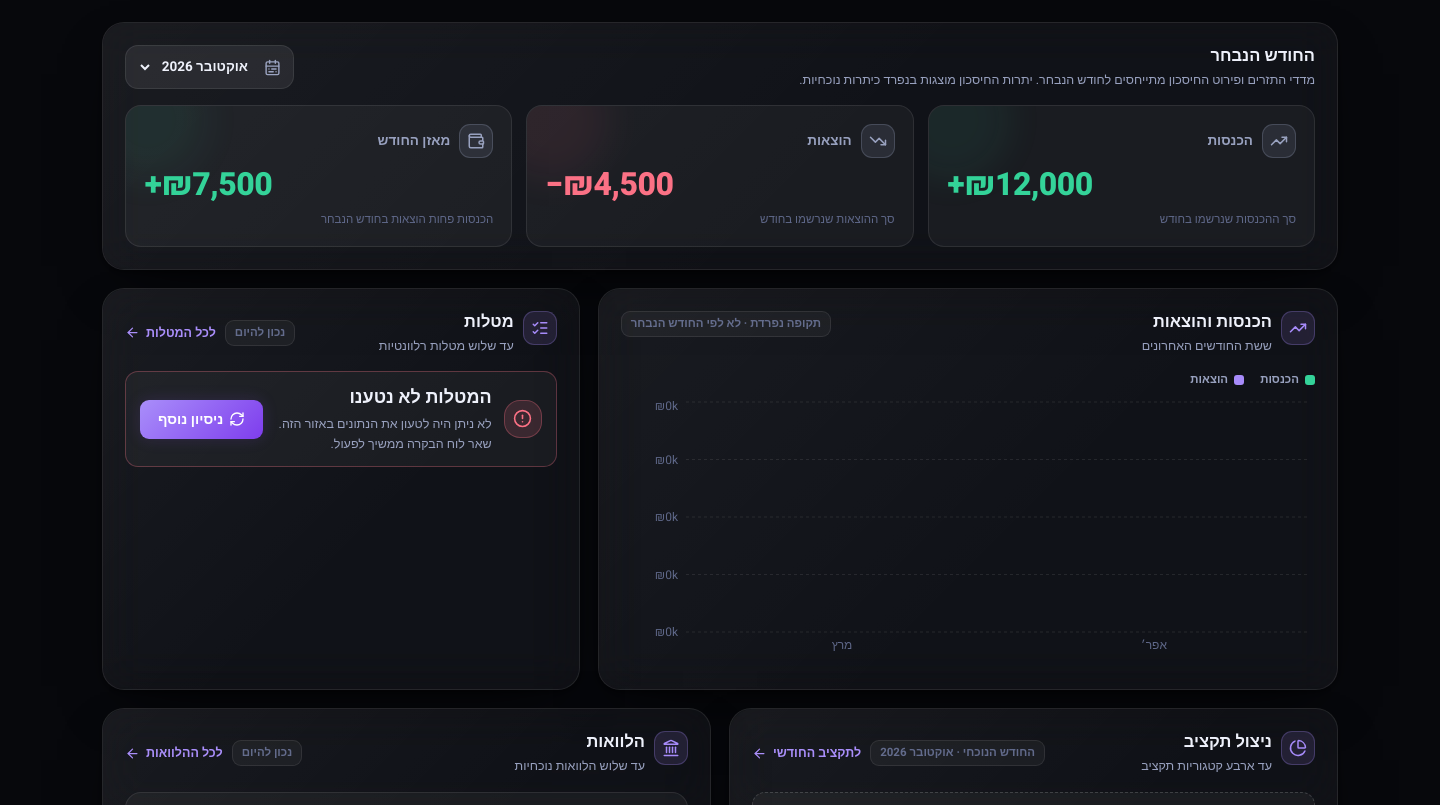
it: Dashboard data states › retries only the failed secondary section
Step 1. Click the button "ניסיון נוסף" → point(202, 419), box x1=140 y1=399 x2=263 y2=438
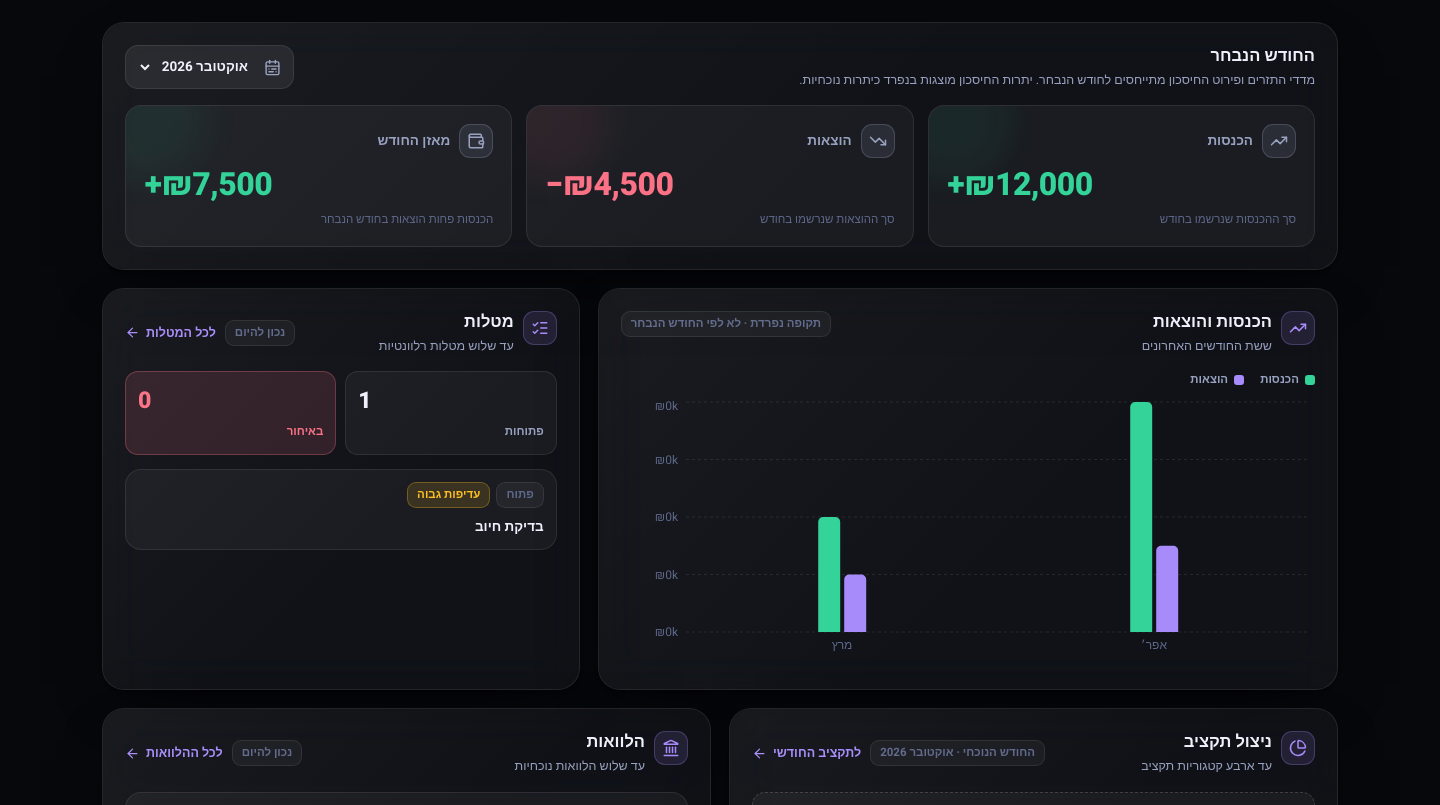
Expected: the text "בדיקת חיוב" is shown, x1=475 y1=517 x2=544 y2=537
